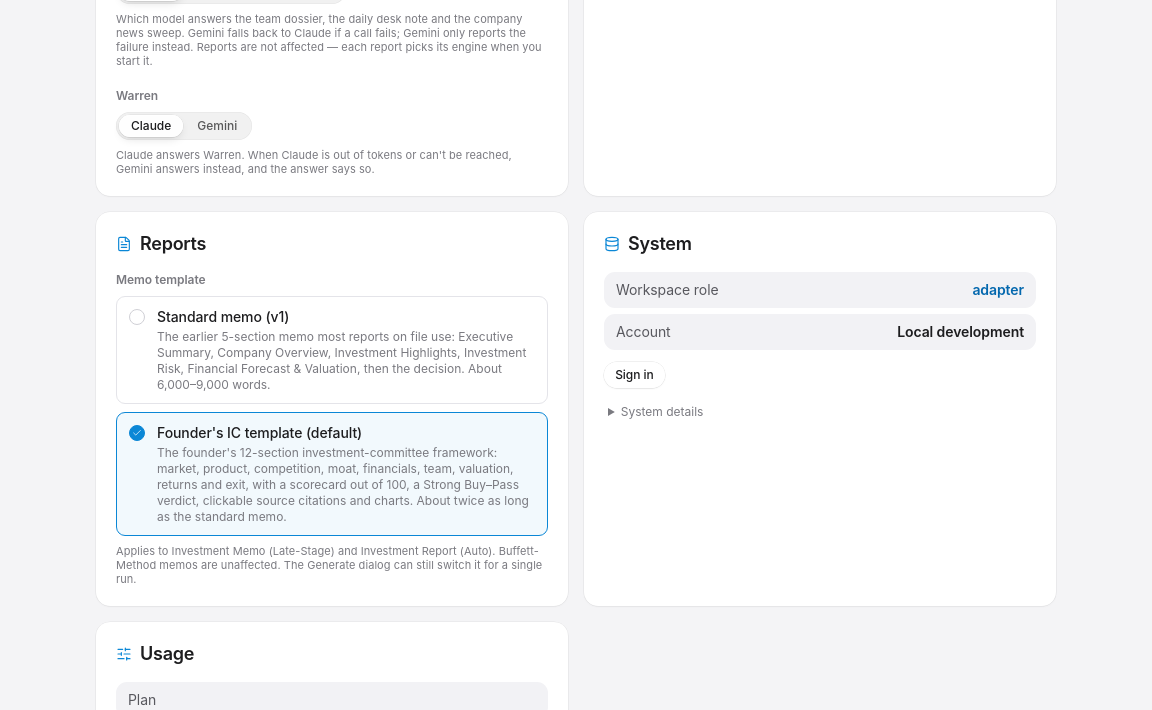
Test: Settings memo template › says so when the server does not keep the choice
The width and height of the screenshot is (1152, 710).
(page scrolled)
Click the radio button with test id "memo-template-standard".
click(332, 350)  # box x1=116 y1=296 x2=548 y2=404
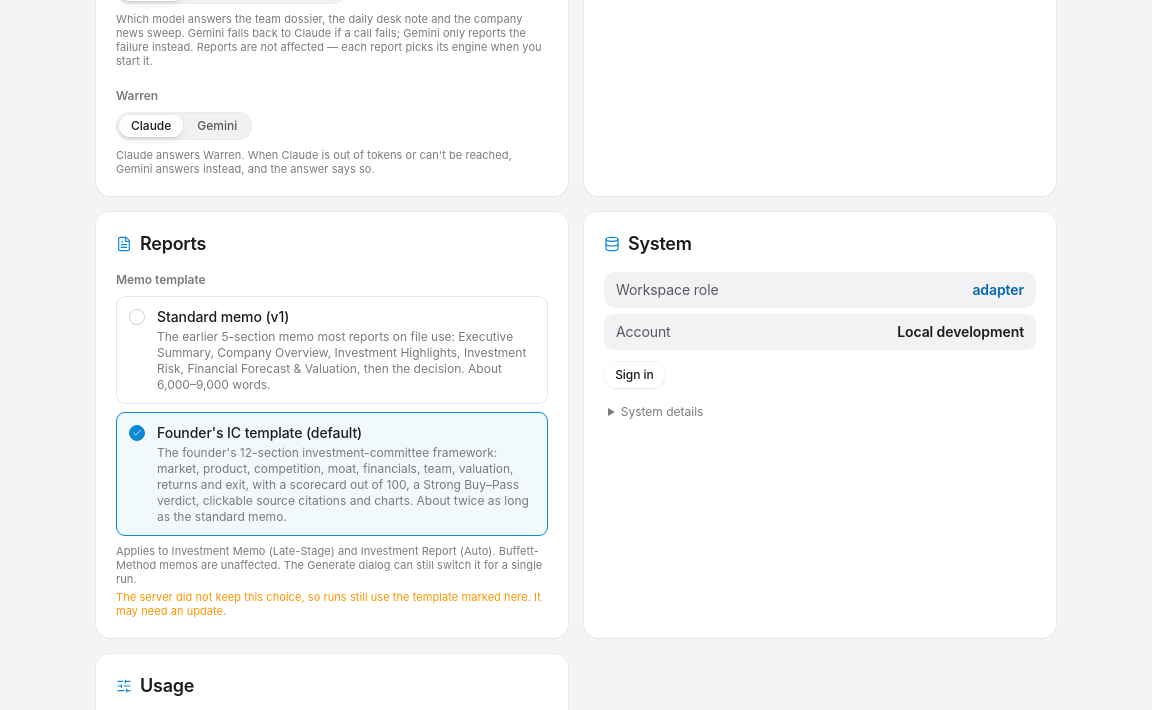
Expected: the text with test id "memo-template-not-saved" shows "runs still use the template marked here", x1=116 y1=590 x2=541 y2=618
